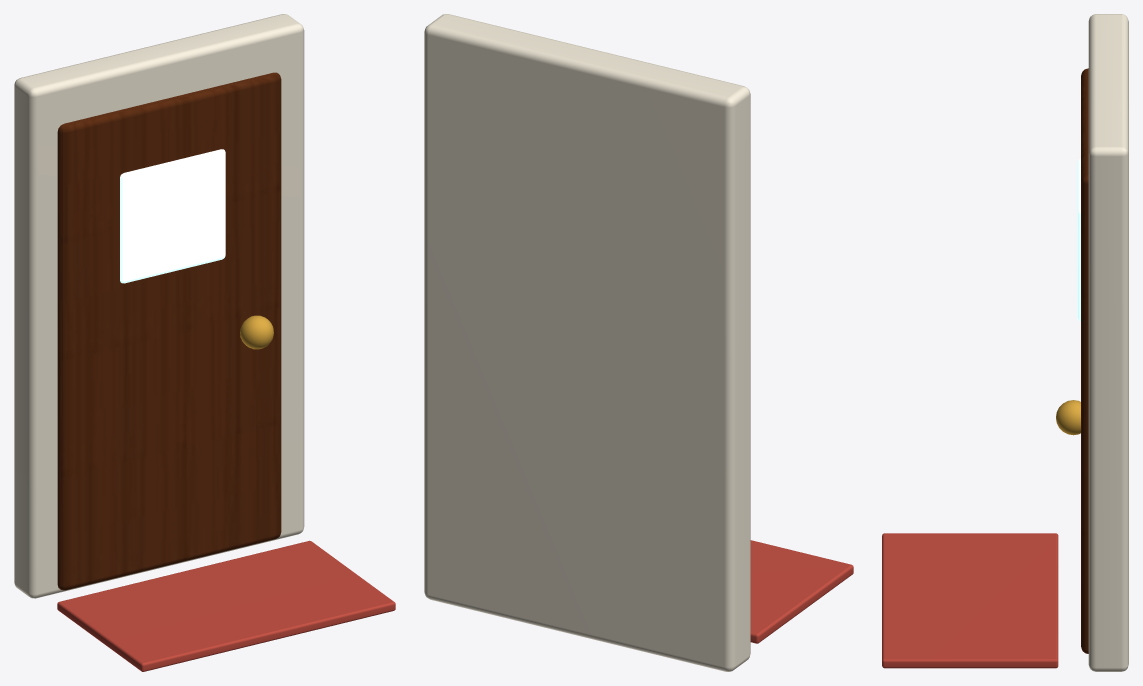
File: housedoor.glb
3 renders of one model, left to right at view 1: azimuth 30°, elevation 25°; view 2: azimuth 150°, elevation 25°; view 3: azimuth 270°, elevation 25°, orthographic. The views are drawn at different scales.
Visible parts, largest first — view 1: door_leaf, door_frame, doormat, door_window, door_knob; view 2: door_frame, doormat; view 3: door_frame, doormat, door_leaf, door_knob, door_window.
Part boxes in pixels (x1,y1,x2,y2): door_leaf: (57, 72, 281, 590); door_frame: (14, 14, 304, 598); doormat: (57, 540, 395, 671); door_window: (120, 149, 225, 283); door_knob: (240, 315, 273, 349); door_frame: (424, 14, 750, 671); doormat: (750, 540, 853, 643); door_frame: (1088, 14, 1128, 671); doormat: (882, 533, 1058, 668); door_leaf: (1081, 68, 1088, 653); door_knob: (1056, 400, 1080, 435); door_window: (1077, 159, 1080, 321).
Size of the model in its own units: 1.3 by 2.3 by 0.98.
Materials: 5 (1 with a texture image).
